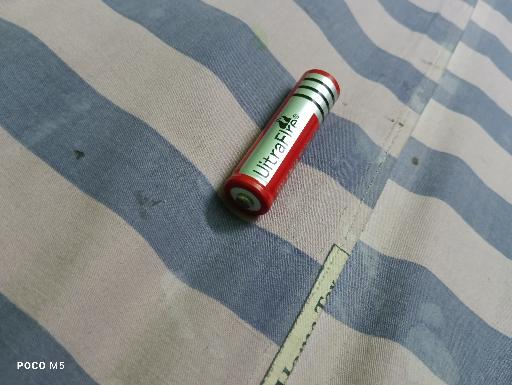Battery: (223, 69, 340, 217)
